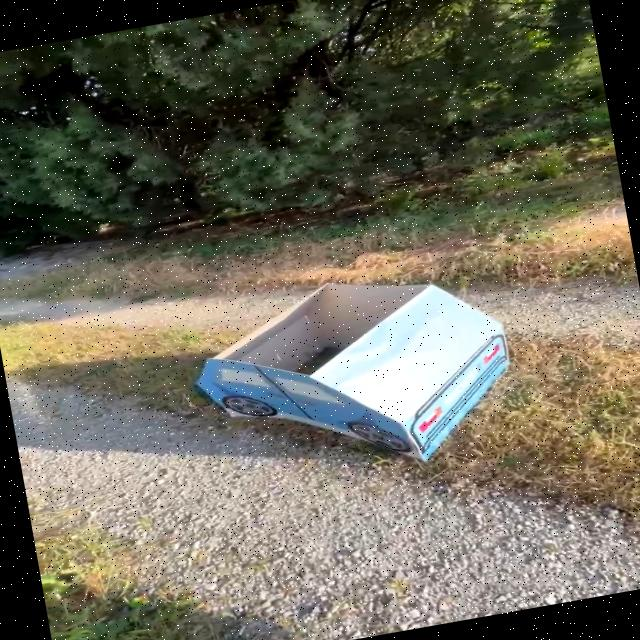blue_car: (121, 224, 566, 501)
